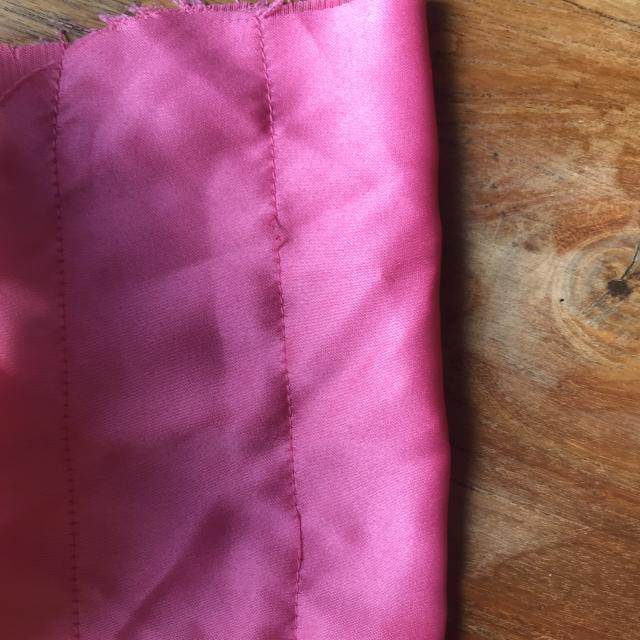broken: (247, 193, 307, 272)
good: (269, 321, 309, 437)
skip: (276, 490, 328, 580)
